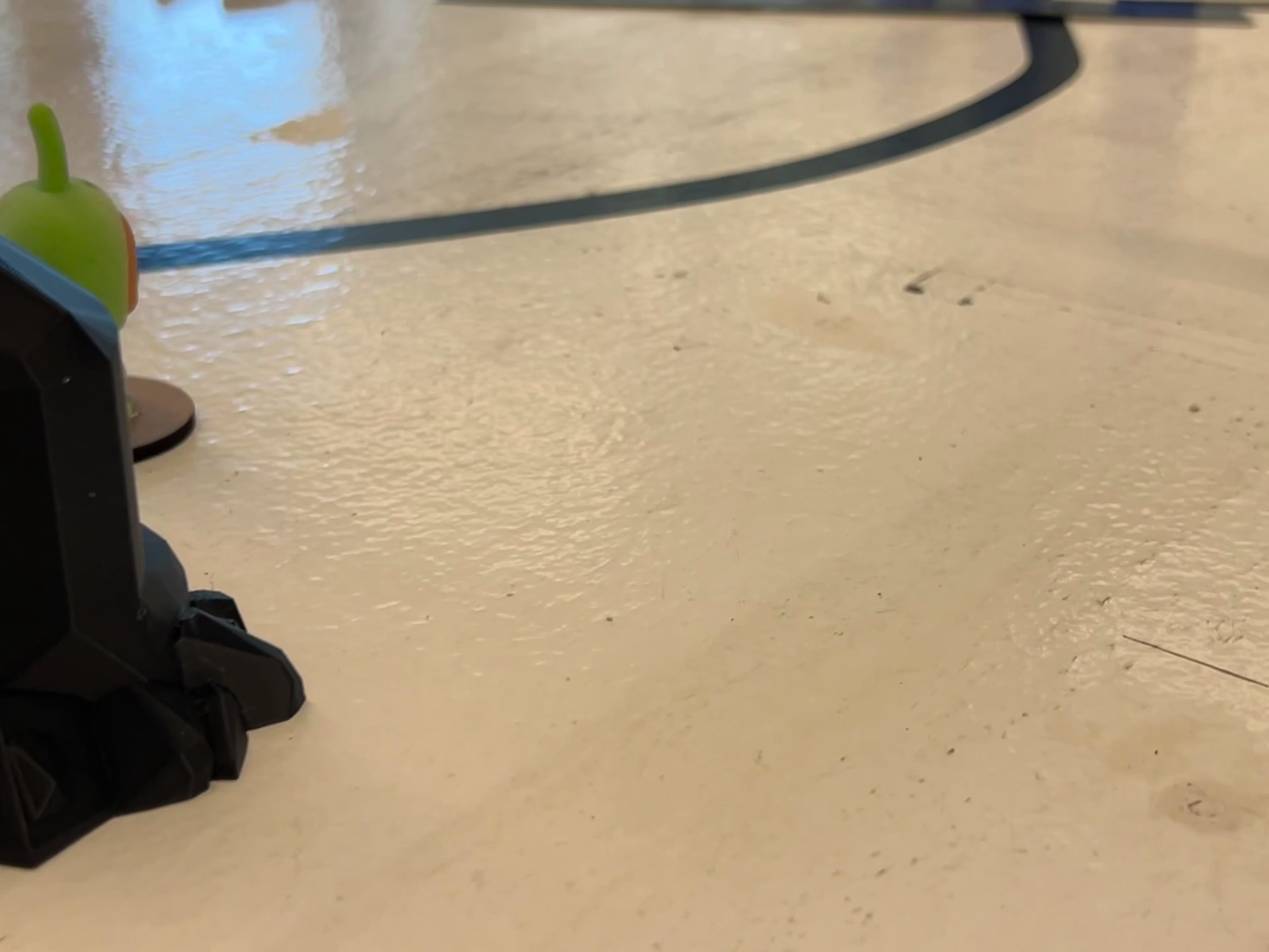teletubby: (0, 103, 136, 329)
